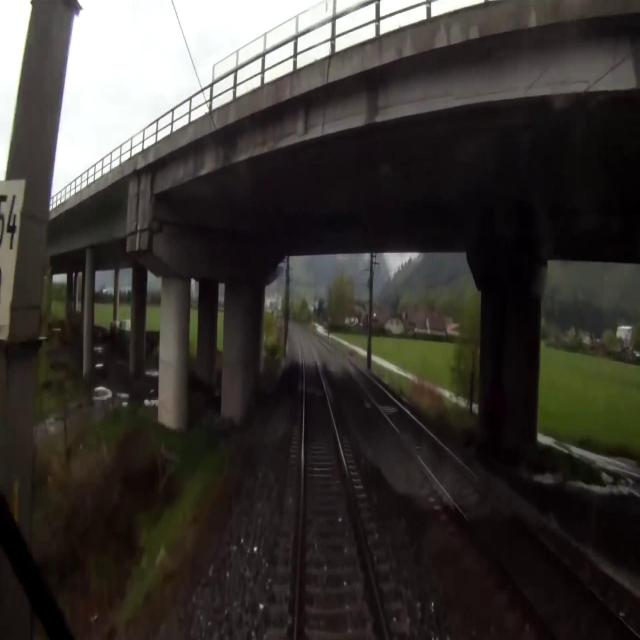rail-track: (319, 337, 634, 639), (296, 328, 384, 639)
